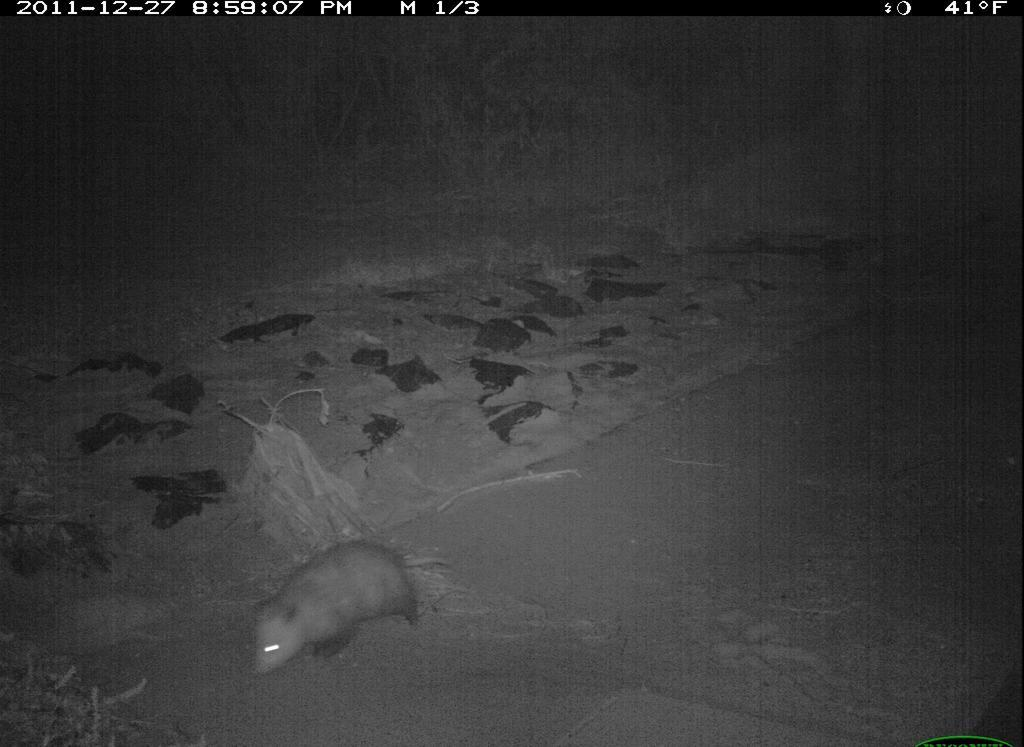opossum: (228, 536, 470, 689)
